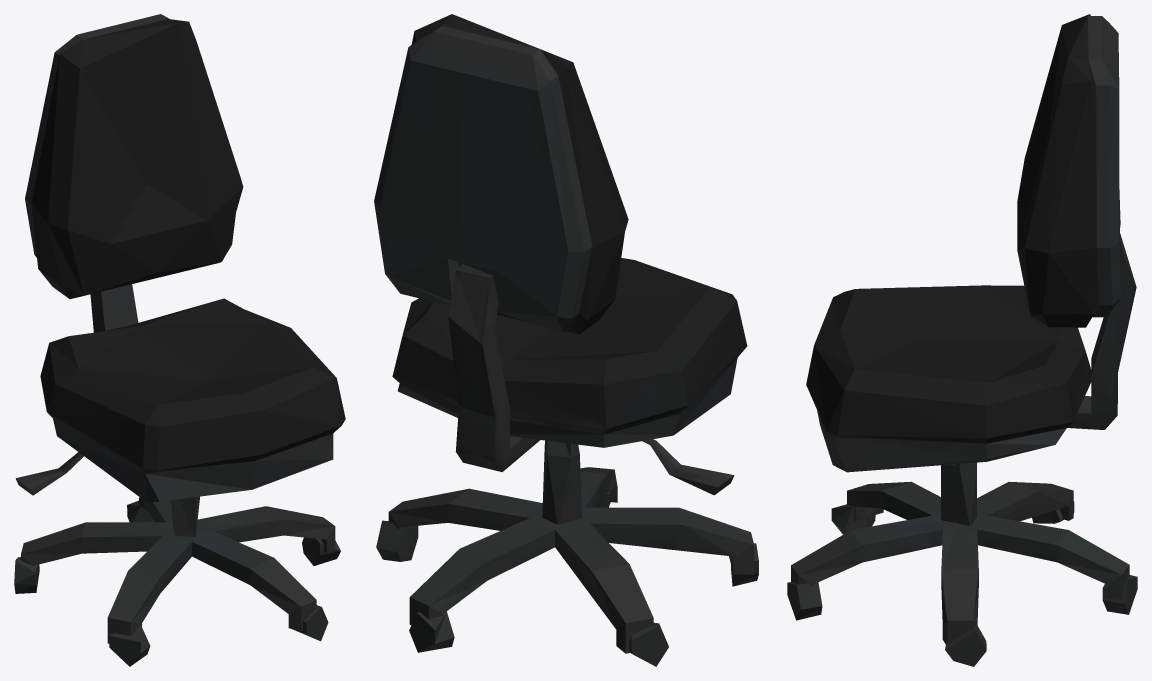
File: silla_oficina.glb
The picture shows the model from 3 angles, left to right: view 1: azimuth 30°, elevation 25°; view 2: azimuth 150°, elevation 25°; view 3: azimuth 270°, elevation 25°; orthographic projection. The views are drawn at different scales.
Visible parts, largest first — view 1: OfficeChair_Mesh; view 2: OfficeChair_Mesh; view 3: OfficeChair_Mesh.
Part boxes in pixels (x1,y1,x2,y2): OfficeChair_Mesh: [14, 14, 345, 666]; OfficeChair_Mesh: [374, 14, 758, 666]; OfficeChair_Mesh: [787, 14, 1137, 666].
Size of the model in its own units: 1.12 by 1.89 by 1.08.
1 material, 1 textured.
